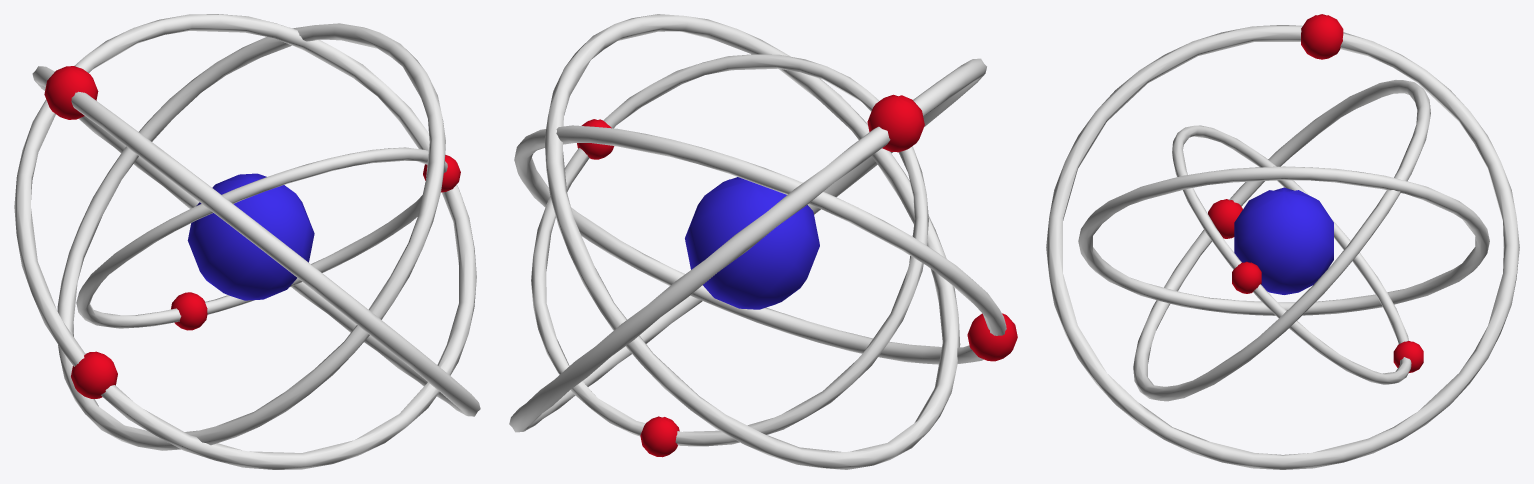
File: atomo-low-poly.fbx
3 views of the same model, side by side, from view 1: azimuth 30°, elevation 25°; view 2: azimuth 150°, elevation 25°; view 3: azimuth 270°, elevation 25° (orthographic). The views are drawn at different scales.
Parts seen in each view (by area): view 1: Rosca.004; view 2: Rosca.004; view 3: Rosca.004.
Part boxes in pixels (left/top/right/bottom): Rosca.004: left=14, top=14, right=480, bottom=469; Rosca.004: left=509, top=14, right=1017, bottom=469; Rosca.004: left=1046, top=14, right=1519, bottom=469.
Size of the model in its own units: 38.57 by 32.59 by 43.94.
